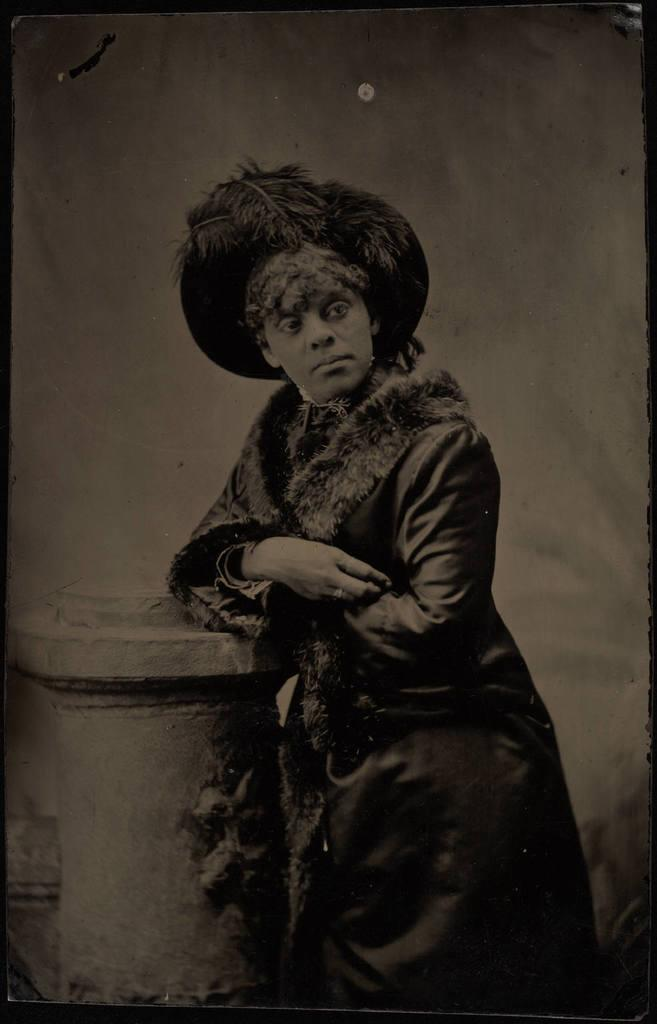Hat: (175, 156, 431, 383)
